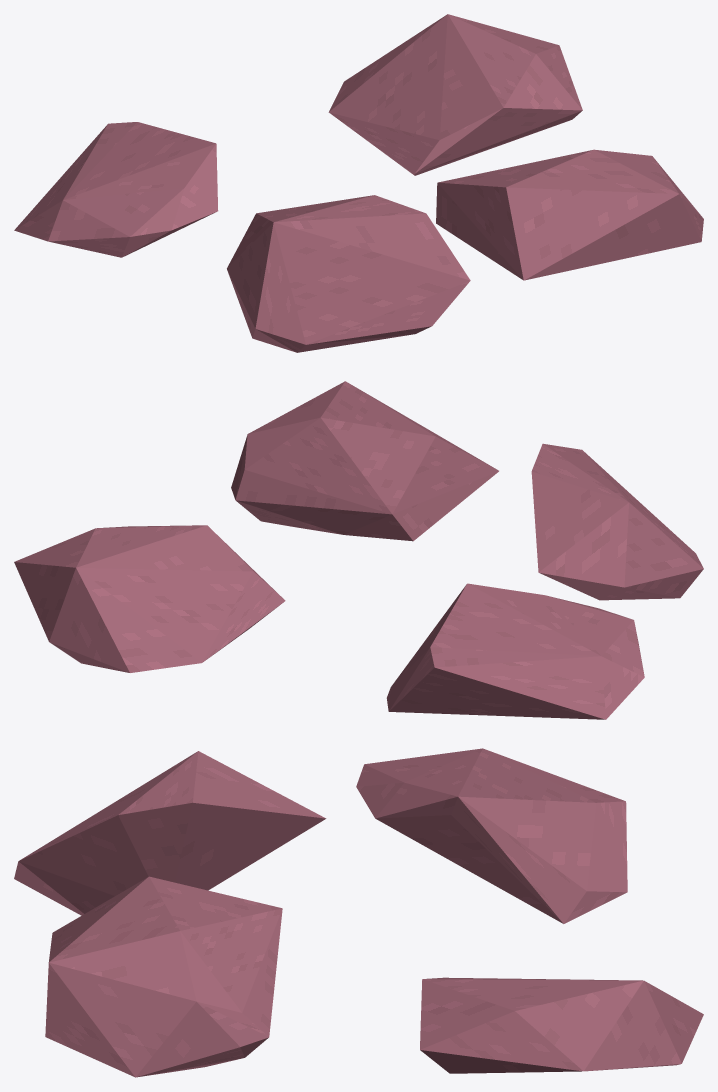
Rendered from dry_fruit.glb.
3 views of the same model, one above another, from view 1: azimuth 30°, elevation 25°; view 2: azimuth 150°, elevation 25°; view 3: azimuth 270°, elevation 25° (orthographic). The views are drawn at different scales.
Visible parts, largest first — view 1: block_dry piece (×4); view 2: block_dry piece (×4); view 3: block_dry piece (×4).
Part boxes in pixels (x1,y1,x2,y2): block_dry piece (×4): (14,14,703,352); block_dry piece (×4): (14,381,703,719); block_dry piece (×4): (14,748,703,1077).
Bounding box in the file's own units: 0.0873 × 0.0158 × 0.0769.
Materials: 1 (1 with a texture image).
